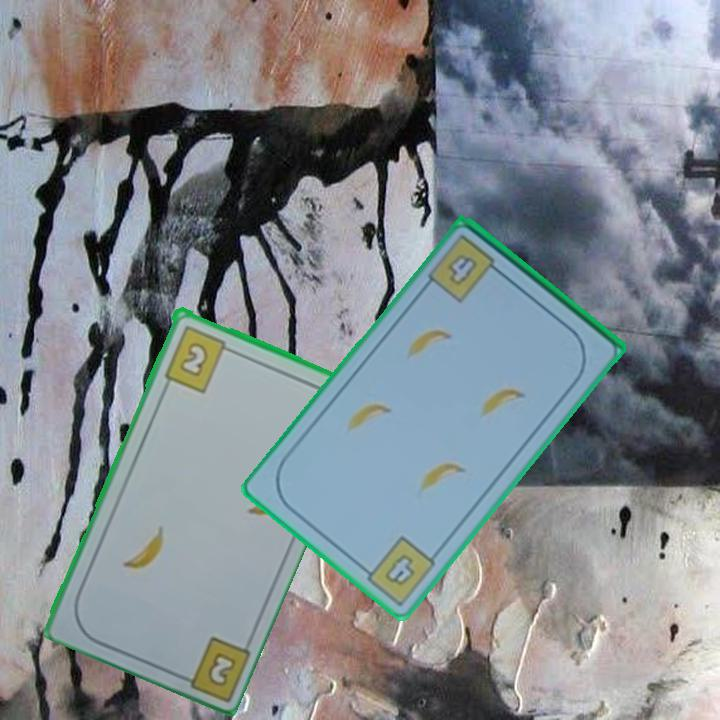2b: (160, 321, 236, 395), (171, 632, 252, 701)
4b: (356, 532, 439, 609), (444, 250, 481, 290)
